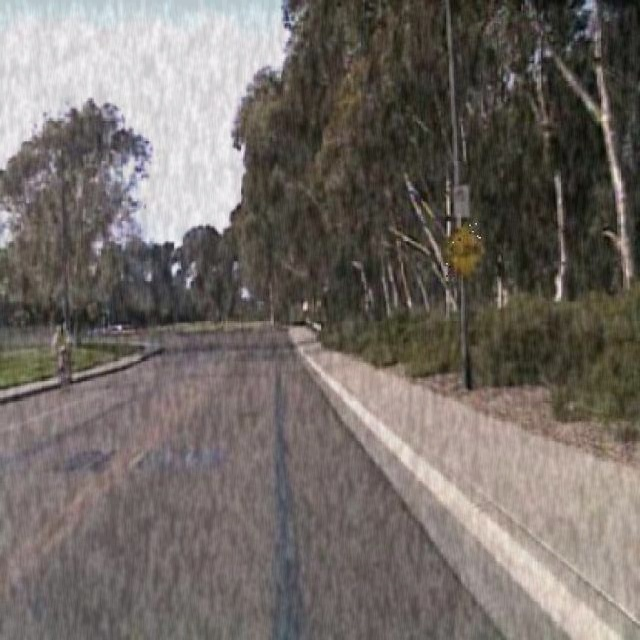slow: (443, 220, 485, 278)
